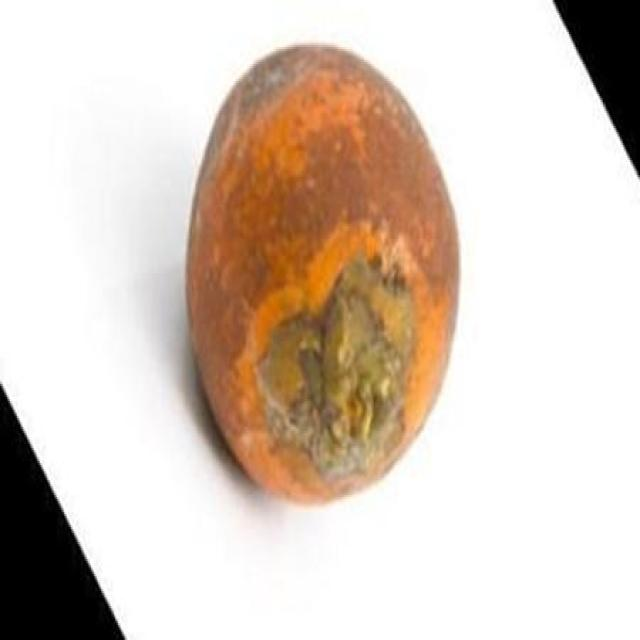good: (185, 47, 459, 508)
